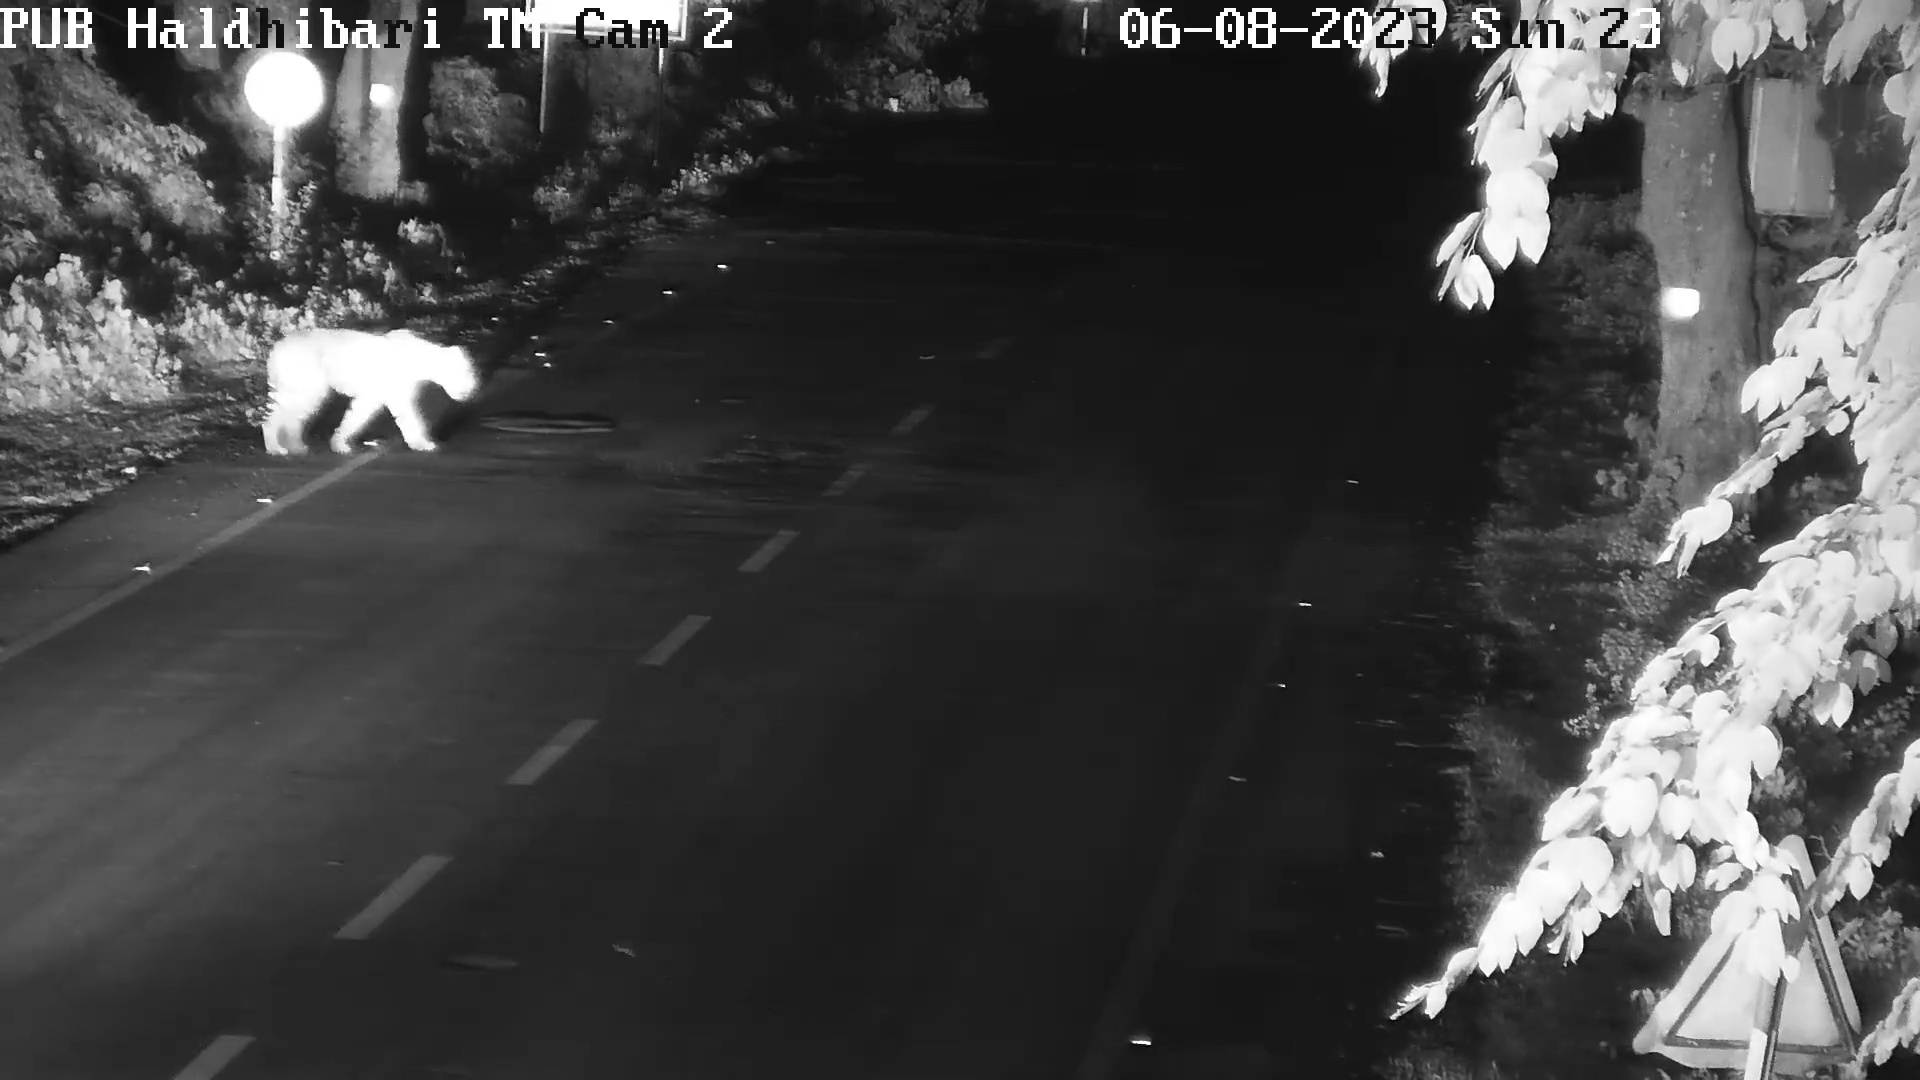tigers: (261, 320, 481, 464)
